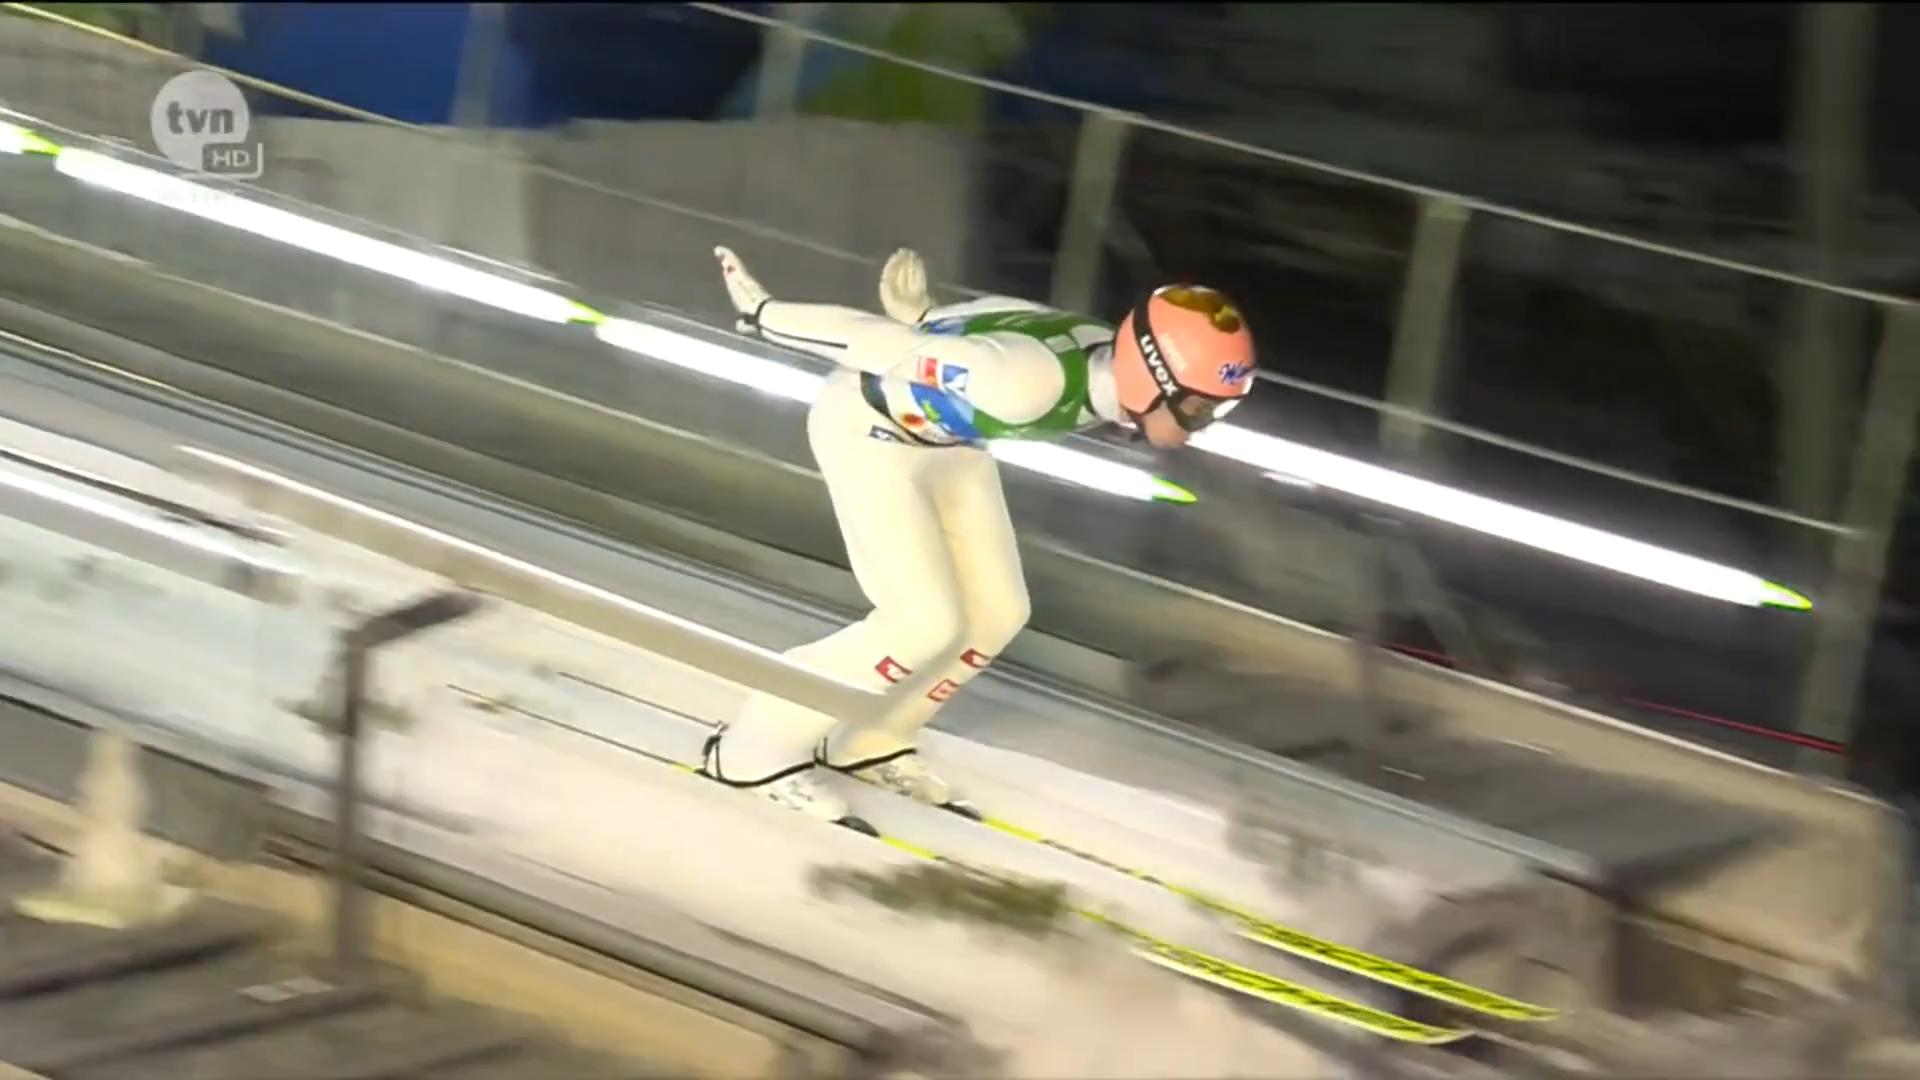prog: (1465, 819, 1793, 934)
